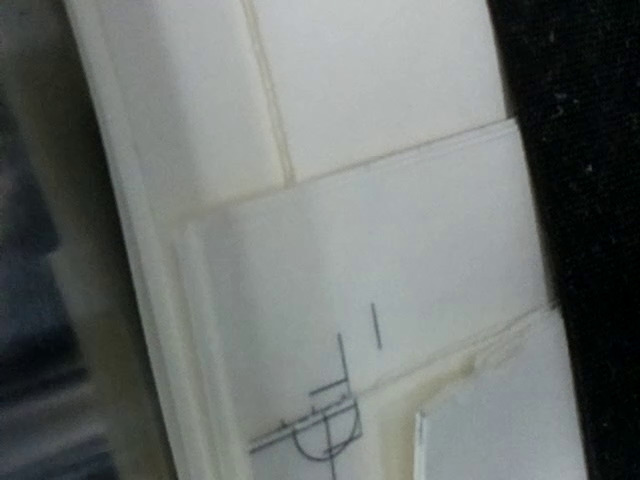misaligned: (241, 331, 366, 463)
